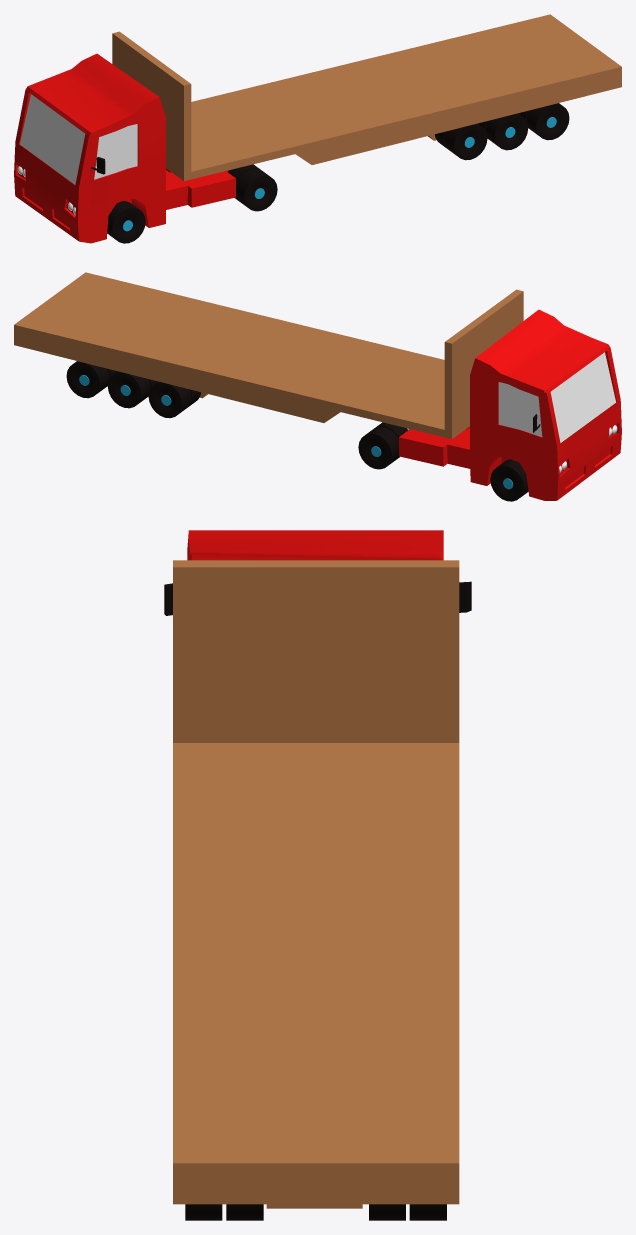
The model's file is truck.glb.
3 renders of one model, top to bottom at view 1: azimuth 30°, elevation 25°; view 2: azimuth 150°, elevation 25°; view 3: azimuth 270°, elevation 25°, orthographic. The views are drawn at different scales.
Visible parts, largest first — view 1: Object_2, Object_3, Object_4, Object_7, Object_5; view 2: Object_2, Object_3, Object_4, Object_7, Object_5; view 3: Object_2, Object_3, Object_4.
Boxes of the visible parts, <box> form: Object_2: <box>112,14,621,180</box>; Object_3: <box>14,53,235,243</box>; Object_4: <box>91,103,569,243</box>; Object_7: <box>19,94,137,184</box>; Object_5: <box>123,117,556,231</box>; Object_2: <box>14,272,523,438</box>; Object_3: <box>399,309,621,500</box>; Object_4: <box>66,361,540,501</box>; Object_7: <box>498,352,615,442</box>; Object_5: <box>79,375,513,489</box>; Object_2: <box>173,560,459,1208</box>; Object_3: <box>187,530,443,560</box>; Object_4: <box>164,581,471,1220</box>.
Bounding box in the file's own units: 18.43 × 4.79 × 4.54.
